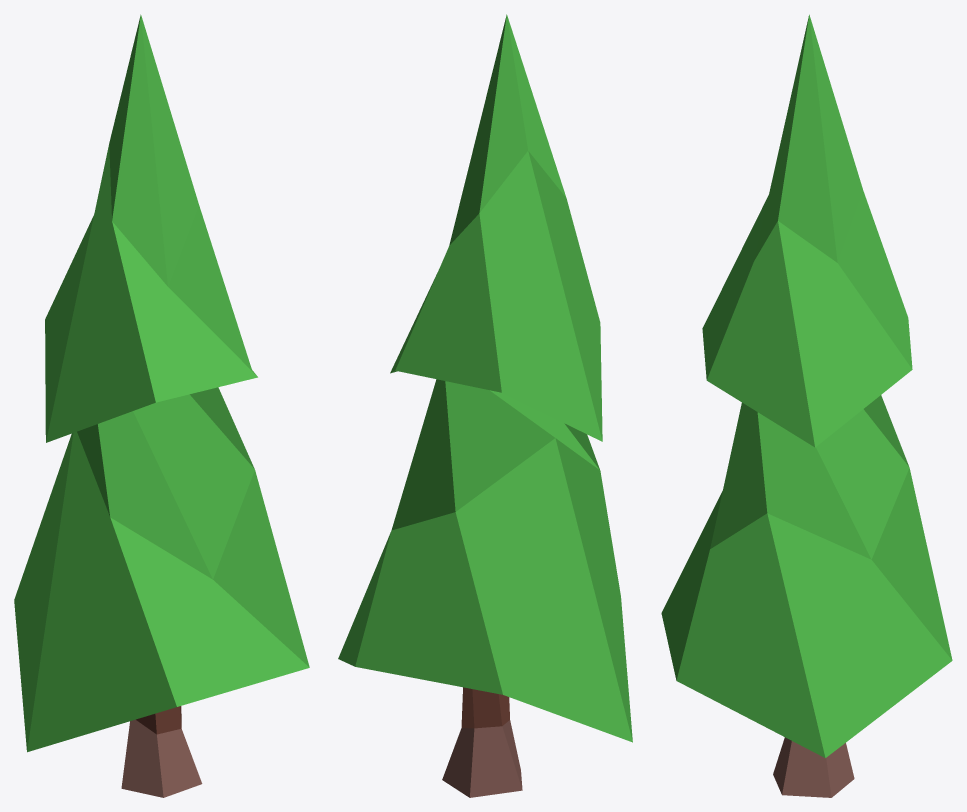
File: arbol pino 6.fbx
3 renders of one model, left to right at view 1: azimuth 30°, elevation 25°; view 2: azimuth 150°, elevation 25°; view 3: azimuth 270°, elevation 25°, orthographic.
Visible parts, largest first — view 1: SpruceTree2; view 2: SpruceTree2; view 3: SpruceTree2.
Boxes of the visible parts, x1,y1,x2,y2 form: SpruceTree2: (14, 14, 309, 797); SpruceTree2: (338, 14, 632, 797); SpruceTree2: (661, 14, 952, 797).
Bounding box in the file's own units: 9981 × 26220 × 9120.
